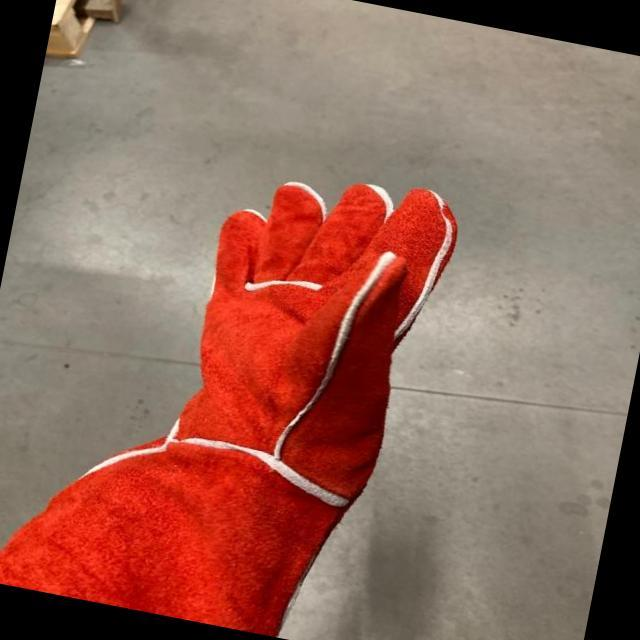glove: (45, 175, 476, 554)
